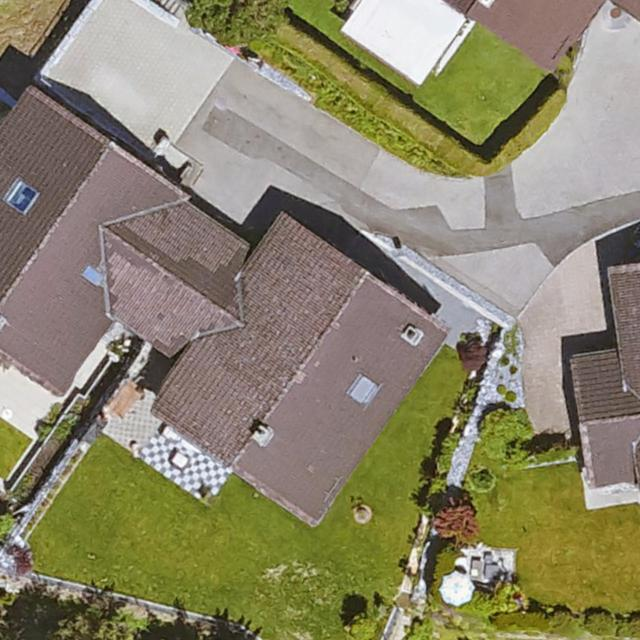tree: (185, 0, 291, 41), (52, 609, 143, 640), (430, 493, 478, 545)
